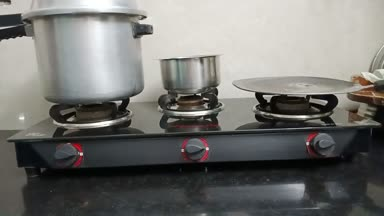flame_gas_off: (262, 96, 338, 160), (50, 101, 123, 166), (164, 94, 221, 161)
